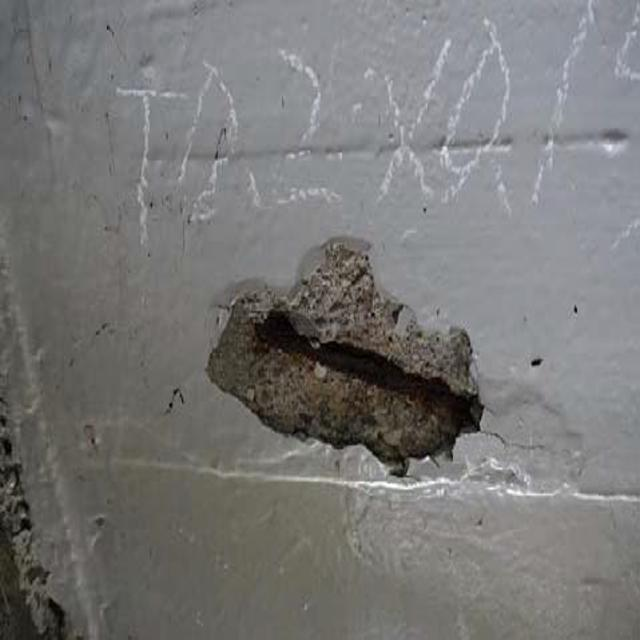spalling: (197, 241, 500, 496)
